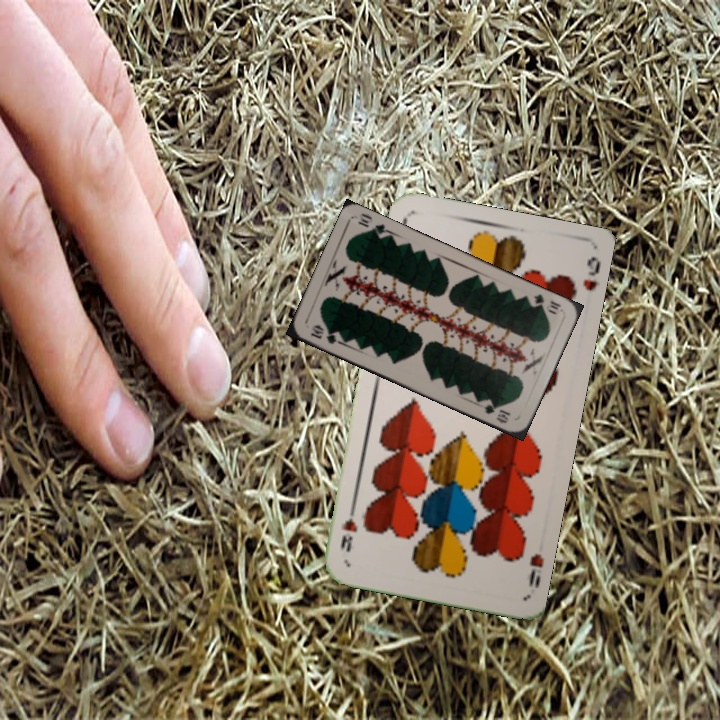G10: (306, 321, 343, 347), (530, 290, 564, 314)
H9: (525, 550, 546, 591)
